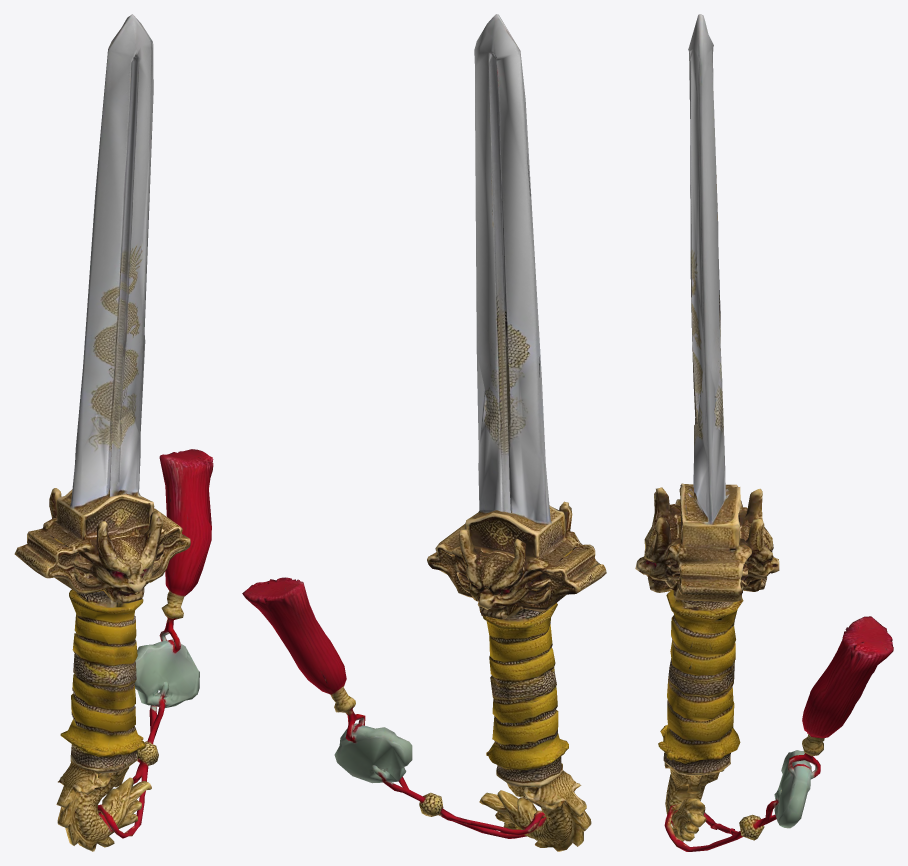
The model's file is emperor_sword.glb.
3 renders of one model, left to right at view 1: azimuth 30°, elevation 25°; view 2: azimuth 150°, elevation 25°; view 3: azimuth 270°, elevation 25°, orthographic. The views are drawn at different scales.
Visible parts, largest first — view 1: tripo_node_adf8e28e-9cfb-48b5-9470-7095b59139f3; view 2: tripo_node_adf8e28e-9cfb-48b5-9470-7095b59139f3; view 3: tripo_node_adf8e28e-9cfb-48b5-9470-7095b59139f3.
Boxes of the visible parts, bbox=[...] form: tripo_node_adf8e28e-9cfb-48b5-9470-7095b59139f3: bbox=[14, 14, 213, 851]; tripo_node_adf8e28e-9cfb-48b5-9470-7095b59139f3: bbox=[242, 14, 606, 851]; tripo_node_adf8e28e-9cfb-48b5-9470-7095b59139f3: bbox=[635, 14, 893, 851].
Size of the model in its own units: 0.3788 by 1.13 by 0.3135.
1 material, 1 textured.
